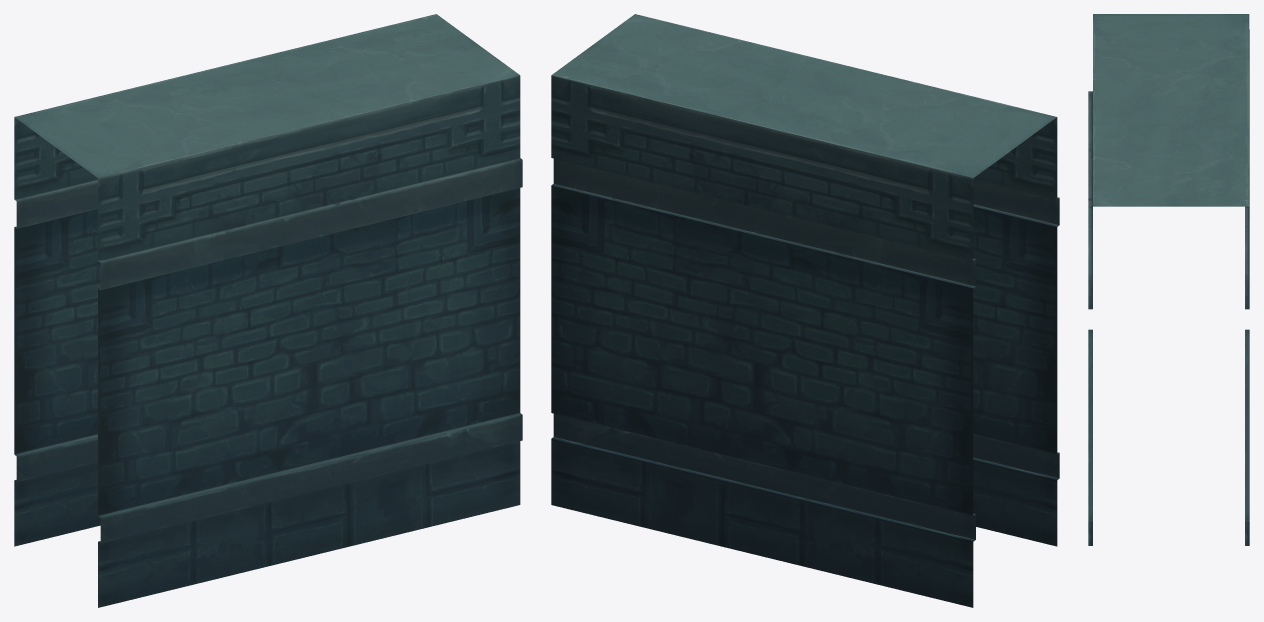
File: Stage_DiXiaCheng_Zhuan.FBX
The picture shows the model from 3 angles, left to right: view 1: azimuth 30°, elevation 25°; view 2: azimuth 150°, elevation 25°; view 3: azimuth 270°, elevation 25°; orthographic projection. The views are drawn at different scales.
Visible parts, largest first — view 1: Stage_DiXiaCheng_Zhuan; view 2: Stage_DiXiaCheng_Zhuan; view 3: Stage_DiXiaCheng_Zhuan.
Part boxes in pixels (left/top/right/bottom): Stage_DiXiaCheng_Zhuan: left=14, top=14, right=522, bottom=607; Stage_DiXiaCheng_Zhuan: left=551, top=14, right=1059, bottom=607; Stage_DiXiaCheng_Zhuan: left=1088, top=14, right=1249, bottom=545.
Bounding box in the file's own units: 1028 × 1000 × 364.
